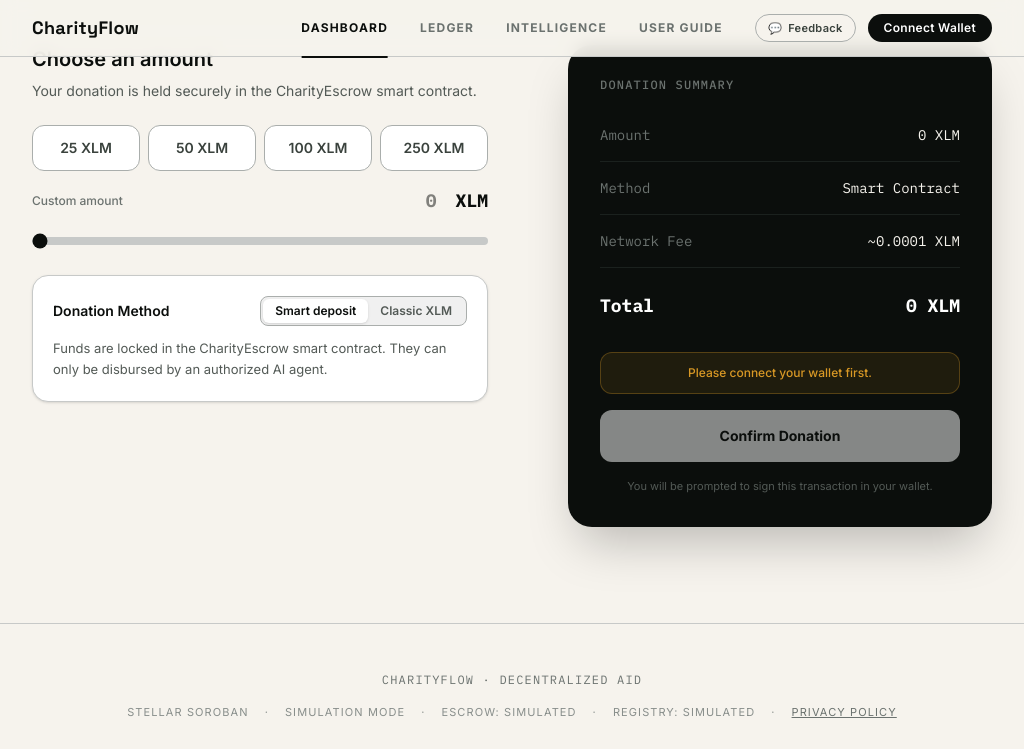
Scenario: CharityFlow simulation dashboard › renders the Privacy Policy page correctly
The width and height of the screenshot is (1024, 749).
(page scrolled)
Click the link "Privacy Policy".
click(844, 712)  # box [792,704,897,720]
(page scrolled)
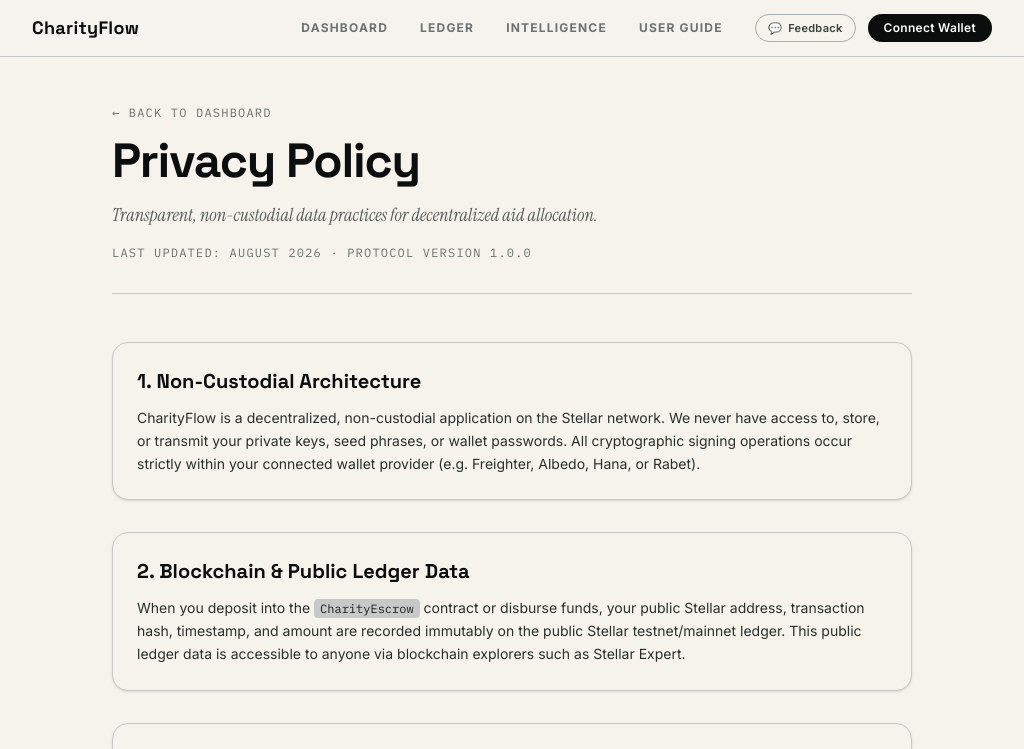
Expected: the heading "Privacy Policy" is shown, [112,130,420,191]
Expected: the heading "1. Non-Custodial Architecture" is shown, [137,368,421,394]
